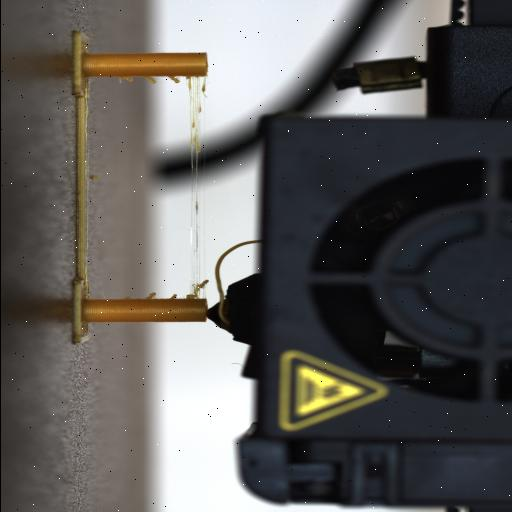stringing: (182, 76, 209, 300), (168, 274, 212, 300), (116, 74, 136, 87), (143, 76, 161, 86), (166, 76, 184, 84), (142, 290, 156, 300), (120, 293, 136, 301)
